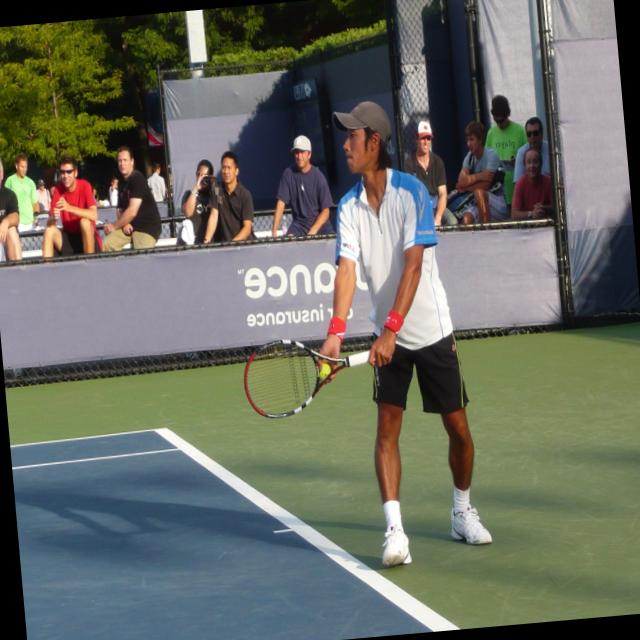Tennis Ball: (320, 362, 334, 380)
